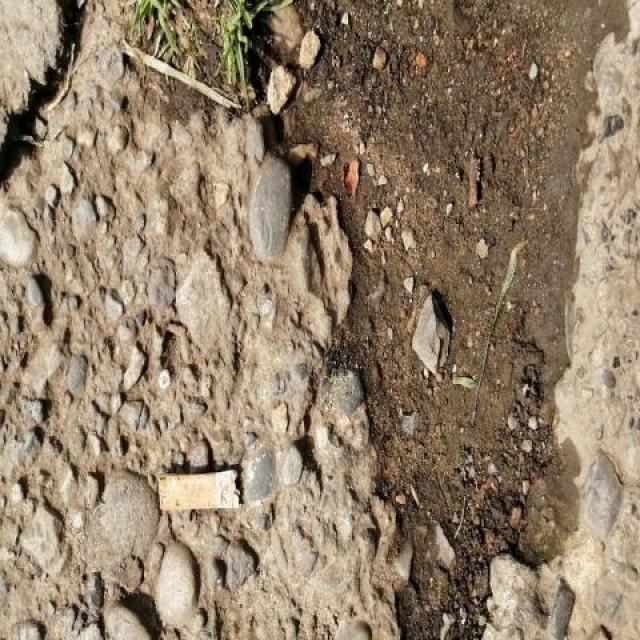non-organic waste: (153, 458, 247, 517)
